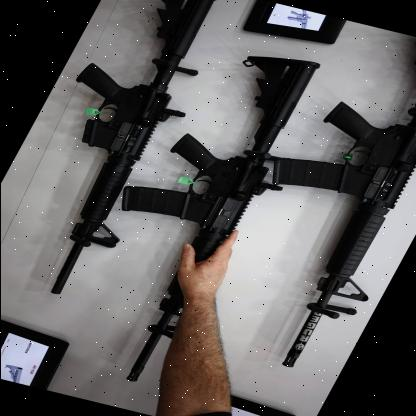rifle: (29, 27, 336, 390), (0, 0, 246, 309), (216, 34, 416, 378)
